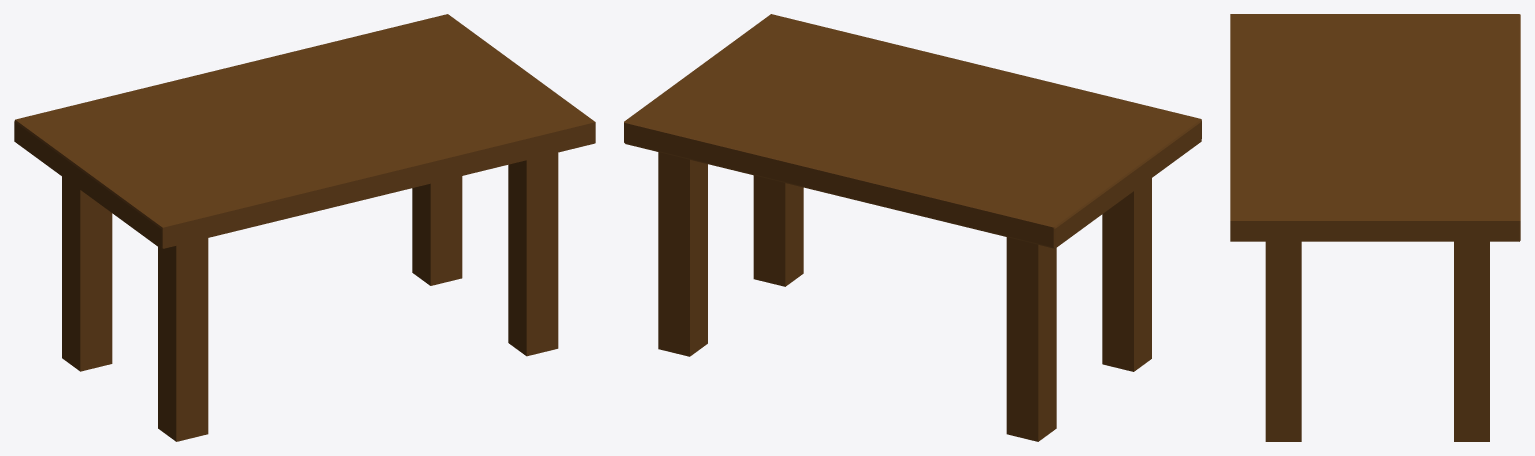
The model's file is Table.fbx.
3 views of the same model, side by side, from view 1: azimuth 30°, elevation 25°; view 2: azimuth 150°, elevation 25°; view 3: azimuth 270°, elevation 25° (orthographic). The views are drawn at different scales.
Parts seen in each view (by area): view 1: Cube.001, Cube.002, Cube, Cube.003, Cube.004; view 2: Cube.001, Cube.003, Cube.004, Cube.002, Cube; view 3: Cube.001, Cube, Cube.004.
Boxes of the visible parts, x1,y1,x2,y2 form: Cube.001: (14, 14, 595, 248); Cube.002: (158, 238, 208, 441); Cube: (508, 152, 558, 356); Cube.003: (62, 176, 112, 371); Cube.004: (412, 176, 462, 285); Cube.001: (624, 14, 1201, 248); Cube.003: (1006, 237, 1056, 441); Cube.004: (658, 152, 707, 356); Cube.002: (1102, 178, 1151, 371); Cube: (753, 175, 803, 286); Cube.001: (1230, 14, 1520, 241); Cube: (1265, 241, 1301, 441); Cube.004: (1454, 241, 1489, 441).
Size of the model in its own units: 1313 by 681 by 778.
